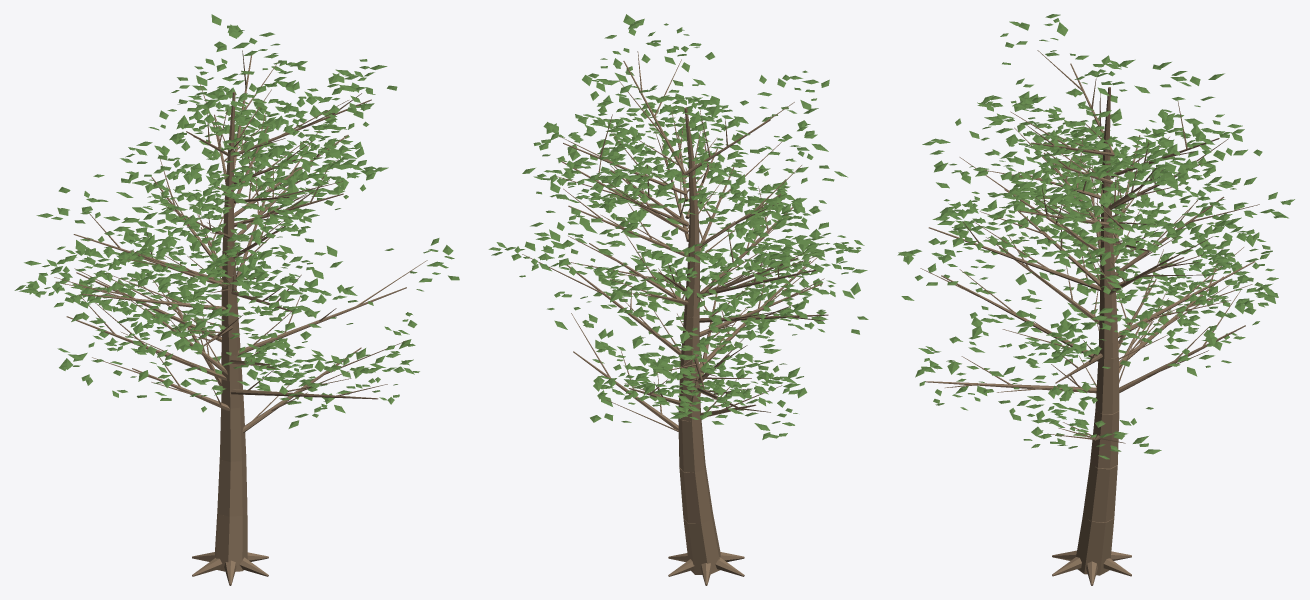
Rendered from oak_17.glb.
The picture shows the model from 3 angles, left to right: view 1: azimuth 30°, elevation 25°; view 2: azimuth 150°, elevation 25°; view 3: azimuth 270°, elevation 25°; orthographic projection. The views are drawn at different scales.
Parts seen in each view (by area): view 1: oak_17; view 2: oak_17; view 3: oak_17.
Part boxes in pixels (bbox=[...]): oak_17: bbox=[14, 14, 459, 585]; oak_17: bbox=[488, 14, 868, 585]; oak_17: bbox=[897, 14, 1294, 585].
Bounding box in the file's own units: 12.8 × 15.27 × 10.47.
